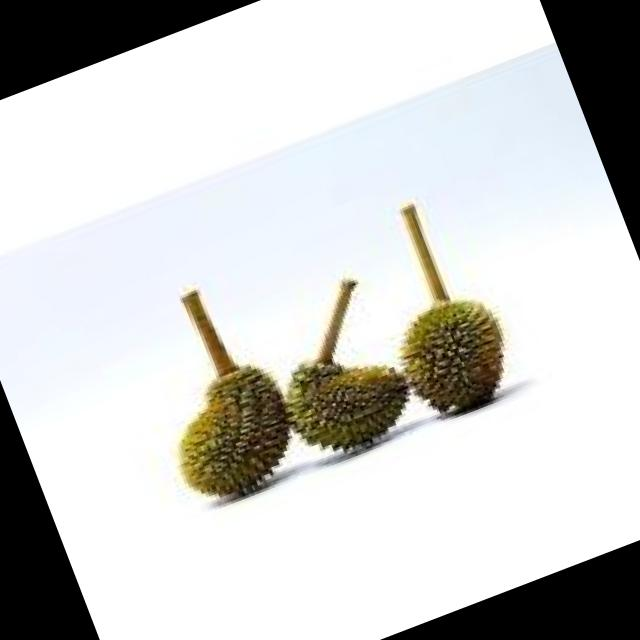fruit: (142, 342, 326, 526), (258, 320, 440, 488), (372, 270, 540, 442)
